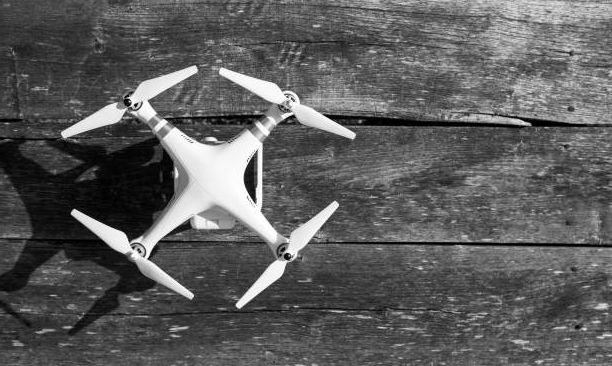Drone: (56, 60, 359, 312)
